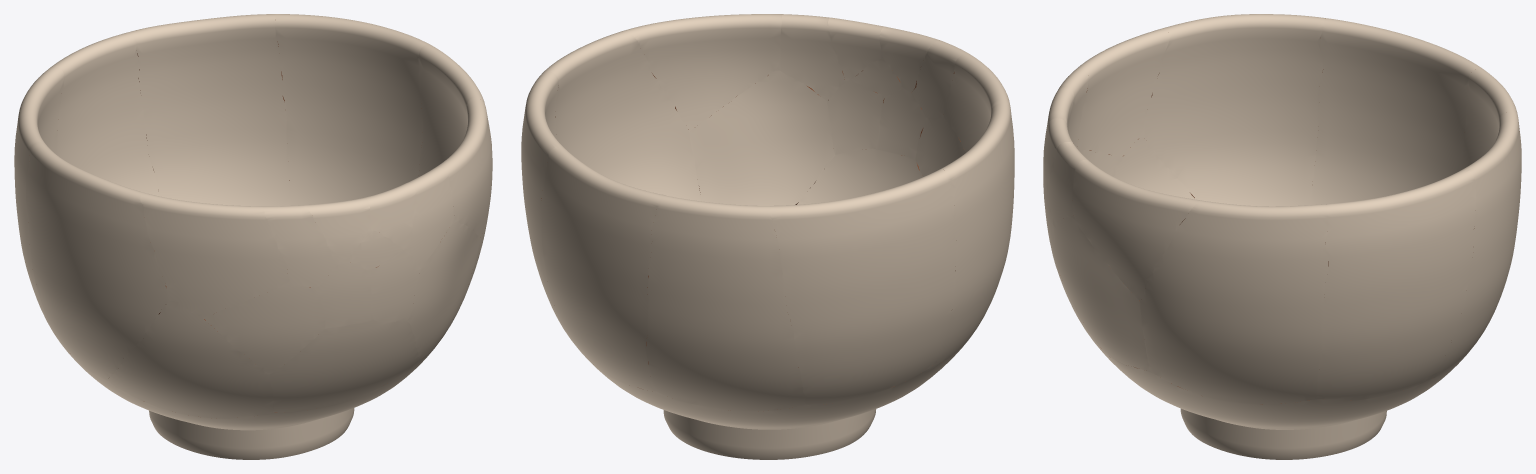
The model's file is Z0_fling.glb.
3 renders of one model, left to right at view 1: azimuth 30°, elevation 25°; view 2: azimuth 150°, elevation 25°; view 3: azimuth 270°, elevation 25°, orthographic.
Parts seen in each view (by area): view 1: shard_18, shard_17, shard_14, shard_09, shard_13, shard_19, shard_11, shard_00, shard_08, shard_15, shard_10, shard_16 (+8 smaller); view 2: shard_16, shard_19, shard_18, shard_15, shard_10, shard_14, shard_00, shard_12, shard_17, shard_11, shard_05, shard_09 (+7 smaller); view 3: shard_15, shard_14, shard_17, shard_16, shard_00, shard_18, shard_12, shard_09, shard_10, shard_19, shard_13, shard_05 (+4 smaller).
Boxes of the visible parts, <box> form: shard_18: <box>130,14,289,206</box>; shard_17: <box>275,14,429,205</box>; shard_14: <box>26,142,171,380</box>; shard_09: <box>140,192,289,317</box>; shard_13: <box>108,300,274,418</box>; shard_19: <box>52,32,159,196</box>; shard_11: <box>269,320,418,412</box>; shard_00: <box>61,331,446,459</box>; shard_08: <box>203,281,326,373</box>; shard_15: <box>418,44,492,314</box>; shard_10: <box>408,220,480,360</box>; shard_16: <box>14,66,64,342</box>; shard_16: <box>770,169,956,404</box>; shard_19: <box>646,195,805,411</box>; shard_18: <box>541,146,662,391</box>; shard_15: <box>542,30,701,201</box>; shard_10: <box>689,69,834,205</box>; shard_14: <box>935,102,1014,363</box>; shard_00: <box>585,353,956,459</box>; shard_12: <box>627,14,782,131</box>; shard_17: <box>521,71,565,331</box>; shard_11: <box>796,148,922,204</box>; shard_05: <box>777,14,844,101</box>; shard_09: <box>943,53,1010,152</box>; shard_15: <box>1140,200,1328,404</box>; shard_14: <box>1142,14,1325,206</box>; shard_17: <box>1316,169,1475,400</box>; shard_16: <box>1310,18,1481,204</box>; shard_00: <box>1104,354,1458,459</box>; shard_18: <box>1431,112,1521,378</box>; shard_12: <box>1072,160,1200,301</box>; shard_09: <box>1076,28,1169,156</box>; shard_10: <box>1053,215,1150,370</box>; shard_19: <box>1457,68,1520,171</box>; shard_13: <box>1113,135,1195,199</box>; shard_05: <box>1048,142,1088,224</box>.
Bounding box in the file's own units: 0.1228 × 0.0871 × 0.122.
